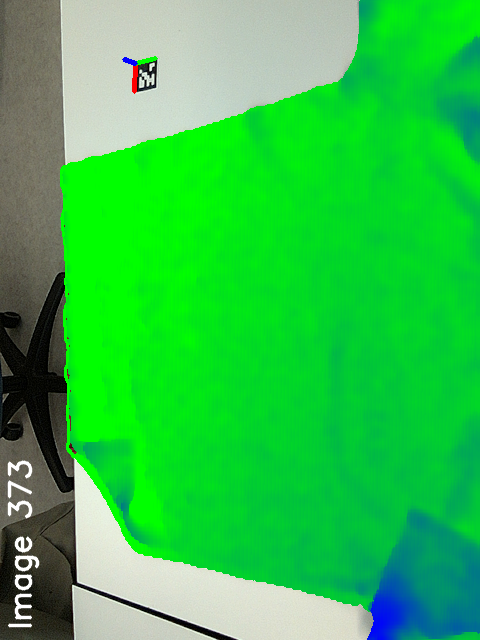V: (380, 488, 447, 544), (97, 423, 150, 472)
